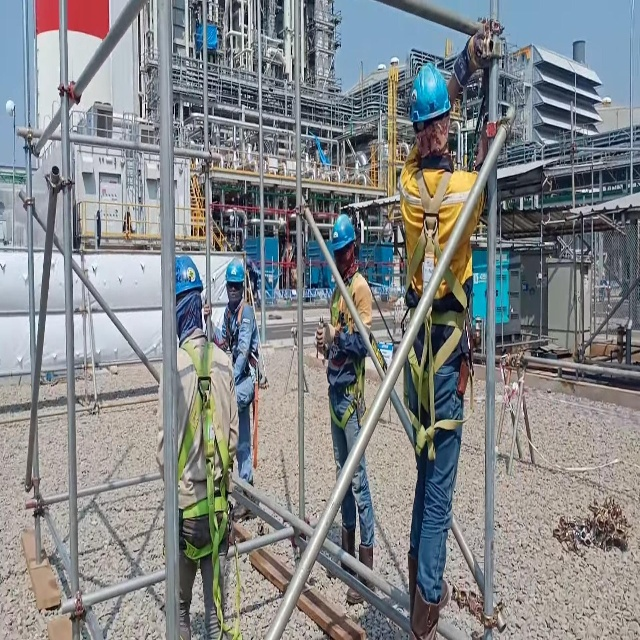Arnes_seguridad: (399, 157, 477, 466), (178, 334, 245, 640), (325, 265, 368, 436), (224, 299, 265, 472)
